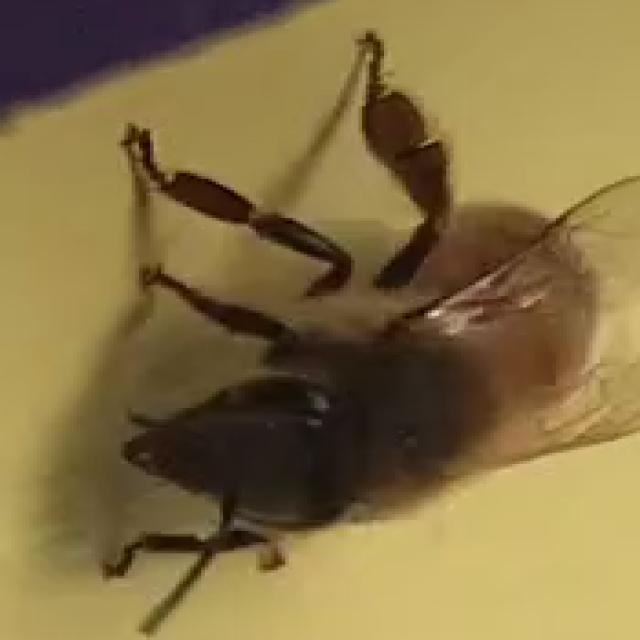honeybee: (73, 47, 578, 608)
